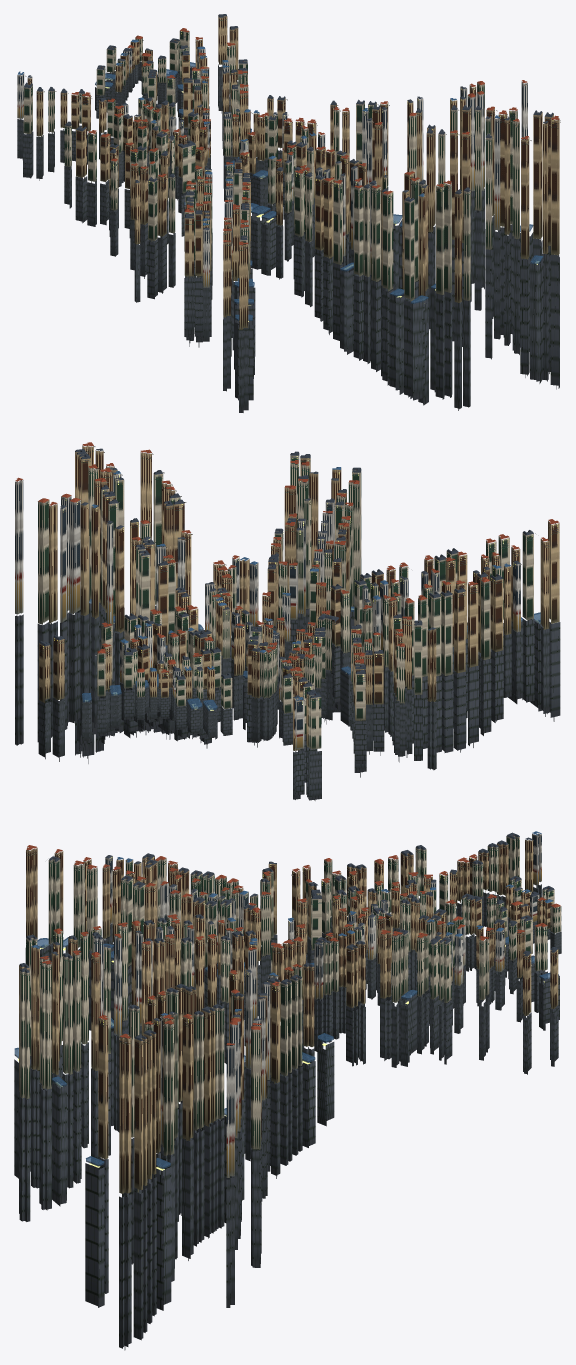
The model's file is osm_buildings_T_E01_S01_Q4.glb.
The picture shows the model from 3 angles, top to bottom: view 1: azimuth 30°, elevation 25°; view 2: azimuth 150°, elevation 25°; view 3: azimuth 270°, elevation 25°; orthographic projection. The views are drawn at different scales.
Parts seen in each view (by area): view 1: OSM_PBR_T_E01_S01_Q4_foundation, OSM_PBR_T_E01_S01_Q4_wall_french_ochre, OSM_PBR_T_E01_S01_Q4_wall_cream_stucco, OSM_PBR_T_E01_S01_Q4_wall_pastel_sand, OSM_PBR_T_E01_S01_Q4_wall_warm_white, OSM_PBR_T_E01_S01_Q4_roof_mansard_slate, OSM_PBR_T_E01_S01_Q4_roof_terracotta, OSM_PBR_T_E01_S01_Q4_greenhouse_blend, OSM_PBR_T_E01_S01_Q4_roof_mansard_deck, OSM_PBR_T_E01_S01_Q4_roof_mint_metal, OSM_PBR_T_E01_S01_Q4_trim_cornice; view 2: OSM_PBR_T_E01_S01_Q4_foundation, OSM_PBR_T_E01_S01_Q4_wall_french_ochre, OSM_PBR_T_E01_S01_Q4_wall_cream_stucco, OSM_PBR_T_E01_S01_Q4_wall_warm_white, OSM_PBR_T_E01_S01_Q4_wall_pastel_sand, OSM_PBR_T_E01_S01_Q4_roof_mansard_slate, OSM_PBR_T_E01_S01_Q4_roof_terracotta, OSM_PBR_T_E01_S01_Q4_roof_mansard_deck, OSM_PBR_T_E01_S01_Q4_greenhouse_blend, OSM_PBR_T_E01_S01_Q4_roof_mint_metal, OSM_PBR_T_E01_S01_Q4_trim_cornice, OSM_PBR_T_E01_S01_Q4_roof_alpine_blue (+1 smaller); view 3: OSM_PBR_T_E01_S01_Q4_foundation, OSM_PBR_T_E01_S01_Q4_wall_french_ochre, OSM_PBR_T_E01_S01_Q4_wall_cream_stucco, OSM_PBR_T_E01_S01_Q4_wall_pastel_sand, OSM_PBR_T_E01_S01_Q4_wall_warm_white, OSM_PBR_T_E01_S01_Q4_roof_mansard_slate, OSM_PBR_T_E01_S01_Q4_roof_terracotta, OSM_PBR_T_E01_S01_Q4_roof_mansard_deck, OSM_PBR_T_E01_S01_Q4_greenhouse_blend, OSM_PBR_T_E01_S01_Q4_roof_mint_metal.
Part boxes in pixels (bbox=[...]): OSM_PBR_T_E01_S01_Q4_foundation: bbox=[17, 61, 559, 412]; OSM_PBR_T_E01_S01_Q4_wall_french_ochre: bbox=[27, 16, 559, 329]; OSM_PBR_T_E01_S01_Q4_wall_cream_stucco: bbox=[23, 29, 519, 301]; OSM_PBR_T_E01_S01_Q4_wall_pastel_sand: bbox=[17, 67, 527, 270]; OSM_PBR_T_E01_S01_Q4_wall_warm_white: bbox=[121, 48, 484, 287]; OSM_PBR_T_E01_S01_Q4_roof_mansard_slate: bbox=[24, 14, 553, 239]; OSM_PBR_T_E01_S01_Q4_roof_terracotta: bbox=[71, 28, 559, 245]; OSM_PBR_T_E01_S01_Q4_greenhouse_blend: bbox=[95, 62, 543, 320]; OSM_PBR_T_E01_S01_Q4_roof_mansard_deck: bbox=[24, 14, 552, 319]; OSM_PBR_T_E01_S01_Q4_roof_mint_metal: bbox=[23, 19, 558, 250]; OSM_PBR_T_E01_S01_Q4_trim_cornice: bbox=[19, 16, 558, 247]; OSM_PBR_T_E01_S01_Q4_foundation: bbox=[15, 596, 560, 800]; OSM_PBR_T_E01_S01_Q4_wall_french_ochre: bbox=[39, 445, 559, 750]; OSM_PBR_T_E01_S01_Q4_wall_cream_stucco: bbox=[38, 455, 533, 749]; OSM_PBR_T_E01_S01_Q4_wall_warm_white: bbox=[60, 496, 520, 700]; OSM_PBR_T_E01_S01_Q4_wall_pastel_sand: bbox=[15, 474, 439, 749]; OSM_PBR_T_E01_S01_Q4_roof_mansard_slate: bbox=[39, 448, 533, 697]; OSM_PBR_T_E01_S01_Q4_roof_terracotta: bbox=[15, 442, 559, 694]; OSM_PBR_T_E01_S01_Q4_roof_mansard_deck: bbox=[40, 449, 535, 708]; OSM_PBR_T_E01_S01_Q4_greenhouse_blend: bbox=[82, 599, 540, 710]; OSM_PBR_T_E01_S01_Q4_roof_mint_metal: bbox=[40, 451, 559, 701]; OSM_PBR_T_E01_S01_Q4_trim_cornice: bbox=[17, 446, 554, 700]; OSM_PBR_T_E01_S01_Q4_roof_alpine_blue: bbox=[92, 467, 510, 700]; OSM_PBR_T_E01_S01_Q4_foundation: bbox=[14, 884, 561, 1350]; OSM_PBR_T_E01_S01_Q4_wall_french_ochre: bbox=[19, 840, 558, 1193]; OSM_PBR_T_E01_S01_Q4_wall_cream_stucco: bbox=[19, 836, 561, 1155]; OSM_PBR_T_E01_S01_Q4_wall_pastel_sand: bbox=[114, 833, 541, 1177]; OSM_PBR_T_E01_S01_Q4_wall_warm_white: bbox=[94, 856, 539, 1138]; OSM_PBR_T_E01_S01_Q4_roof_mansard_slate: bbox=[19, 834, 557, 1040]; OSM_PBR_T_E01_S01_Q4_roof_terracotta: bbox=[26, 835, 560, 1045]; OSM_PBR_T_E01_S01_Q4_roof_mansard_deck: bbox=[15, 832, 556, 1166]; OSM_PBR_T_E01_S01_Q4_greenhouse_blend: bbox=[14, 936, 558, 1169]; OSM_PBR_T_E01_S01_Q4_roof_mint_metal: bbox=[20, 840, 557, 1047].
Bounding box in the file's own units: 930 × 642 × 999.
Materials: 18 (16 with a texture image).
